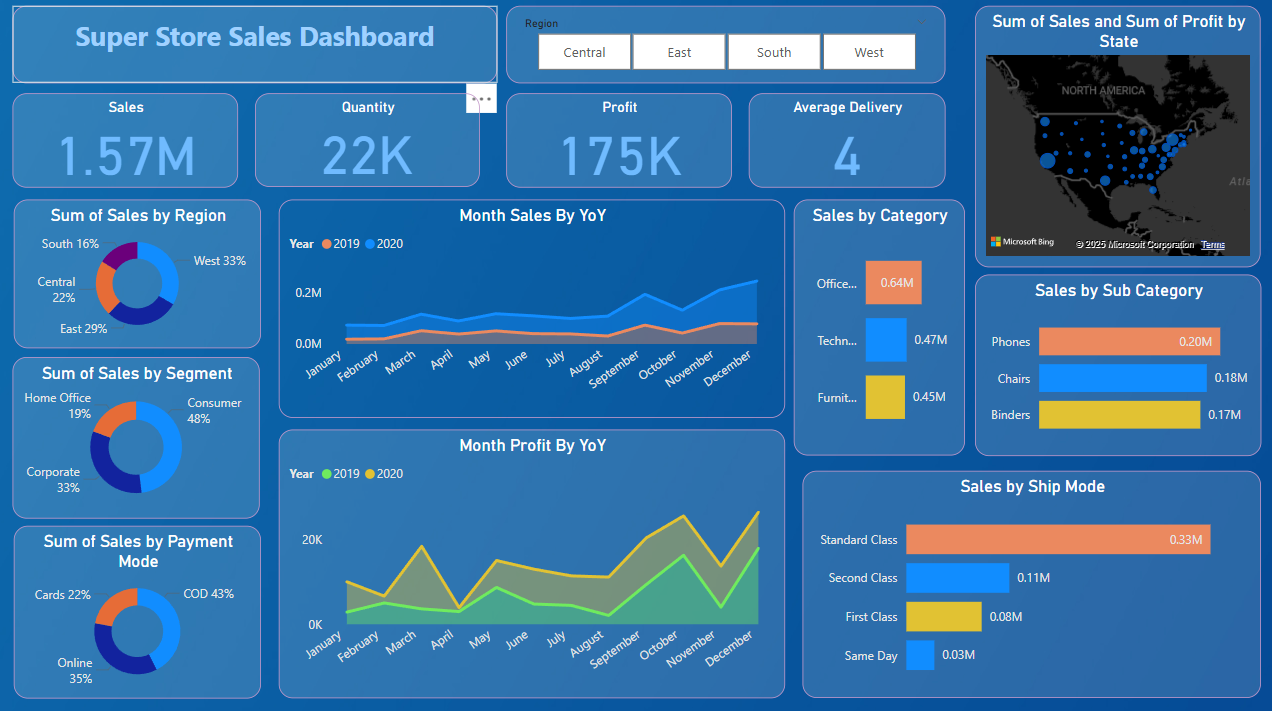

This screenshot's page, from the dashboard's own definition file:
{"tool":"powerbi","page":{"name":"Page 1","canvas":[1280,720],"ordinal":0},"visuals":[{"type":"clusteredBarChart","title":"Sales by Category","fields":{"Category":["SuperStore_Sales_Dataset.Category"],"Y":["Sum(SuperStore_Sales_Dataset.Sales)"]},"box":[793.8,202.5,171.2,256.2],"z":0},{"type":"clusteredBarChart","title":"Sales by Sub Category","fields":{"Category":["SuperStore_Sales_Dataset.Sub-Category"],"Y":["Sum(SuperStore_Sales_Dataset.Sales)"]},"box":[975,277.5,286.2,181.2],"z":1000},{"type":"clusteredBarChart","title":"Sales by Ship Mode","fields":{"Category":["SuperStore_Sales_Dataset.Ship Mode"],"Y":["Sum(SuperStore_Sales_Dataset.Sales)"]},"box":[802.5,473.8,458.8,227.5],"z":2000},{"type":"stackedAreaChart","title":"Month Sales By YoY","fields":{"Y":["Sum(SuperStore_Sales_Dataset.Sales)"],"Category":["SuperStore_Sales_Dataset.Order Date.Variation.Date Hierarchy.Month","SuperStore_Sales_Dataset.Order Date.Variation.Date Hierarchy.Day"],"Series":["SuperStore_Sales_Dataset.Order Date.Variation.Date Hierarchy.Year"]},"box":[278.8,202.5,506.2,218.8],"z":3000},{"type":"map","fields":{"Category":["SuperStore_Sales_Dataset.State"],"Size":["Sum(SuperStore_Sales_Dataset.Sales)"]},"box":[974.8,8.4,285.9,261.8],"z":4000},{"type":"stackedAreaChart","title":"Month Profit By YoY","fields":{"Category":["SuperStore_Sales_Dataset.Order Date.Variation.Date Hierarchy.Month","SuperStore_Sales_Dataset.Order Date.Variation.Date Hierarchy.Day"],"Series":["SuperStore_Sales_Dataset.Order Date.Variation.Date Hierarchy.Year"],"Y":["Sum(SuperStore_Sales_Dataset.Profit)"]},"box":[278.8,432.5,506.2,268.8],"z":5000},{"type":"donutChart","fields":{"Category":["SuperStore_Sales_Dataset.Segment"],"Y":["Sum(SuperStore_Sales_Dataset.Sales)"]},"box":[12.5,360,247.5,161.2],"z":6000},{"type":"donutChart","fields":{"Category":["SuperStore_Sales_Dataset.Payment Mode"],"Y":["Sum(SuperStore_Sales_Dataset.Sales)"]},"box":[13.8,528.8,247.5,172.5],"z":7000},{"type":"slicer","fields":{"Values":["SuperStore_Sales_Dataset.Region"]},"box":[506.7,8.4,439.1,77.2],"z":8000},{"type":"textbox","box":[12.5,8.8,485,77.5],"z":9000},{"type":"card","title":"Sales","fields":{"Values":["Sum(SuperStore_Sales_Dataset.Sales)"]},"box":[12.1,96.5,225.6,94.1],"z":10000},{"type":"card","title":"Quantity","fields":{"Values":["Sum(SuperStore_Sales_Dataset.Quantity)"]},"box":[255,96.2,225,93.8],"z":11000},{"type":"card","title":"Profit","fields":{"Values":["Sum(SuperStore_Sales_Dataset.Profit)"]},"box":[506.7,96.5,225.6,94.1],"z":12000},{"type":"card","title":"Average Delivery","fields":{"Values":["Avg(SuperStore_Sales_Dataset.Avg Delivery)"]},"box":[749.2,96.5,196.6,94.1],"z":13000},{"type":"donutChart","fields":{"Category":["SuperStore_Sales_Dataset.Region","SuperStore_Sales_Dataset.Segment"],"Y":["Sum(SuperStore_Sales_Dataset.Sales)"]},"box":[13.8,202.5,247.5,148.8],"z":14000}]}

Visuals, with their boxes in screenshot pixels (x1, y1, x2, y2), scaled from the page's 1280x720 canvas onto the 1272x711 screenshot:
"Sales by Category" clusteredBarChart: (789,200,959,453)
"Sales by Sub Category" clusteredBarChart: (969,274,1253,453)
"Sales by Ship Mode" clusteredBarChart: (797,468,1253,693)
"Month Sales By YoY" stackedAreaChart: (277,200,780,416)
map - SuperStore_Sales_Dataset.State x Sum(SuperStore_Sales_Dataset.Sales): (969,8,1253,267)
"Month Profit By YoY" stackedAreaChart: (277,427,780,693)
donutChart - SuperStore_Sales_Dataset.Segment x Sum(SuperStore_Sales_Dataset.Sales): (12,356,258,515)
donutChart - SuperStore_Sales_Dataset.Payment Mode x Sum(SuperStore_Sales_Dataset.Sales): (14,522,260,693)
slicer - SuperStore_Sales_Dataset.Region: (504,8,940,85)
textbox: (12,9,494,85)
"Sales" card: (12,95,236,188)
"Quantity" card: (253,95,477,188)
"Profit" card: (504,95,728,188)
"Average Delivery" card: (745,95,940,188)
donutChart - SuperStore_Sales_Dataset.Region x SuperStore_Sales_Dataset.Segment: (14,200,260,347)
